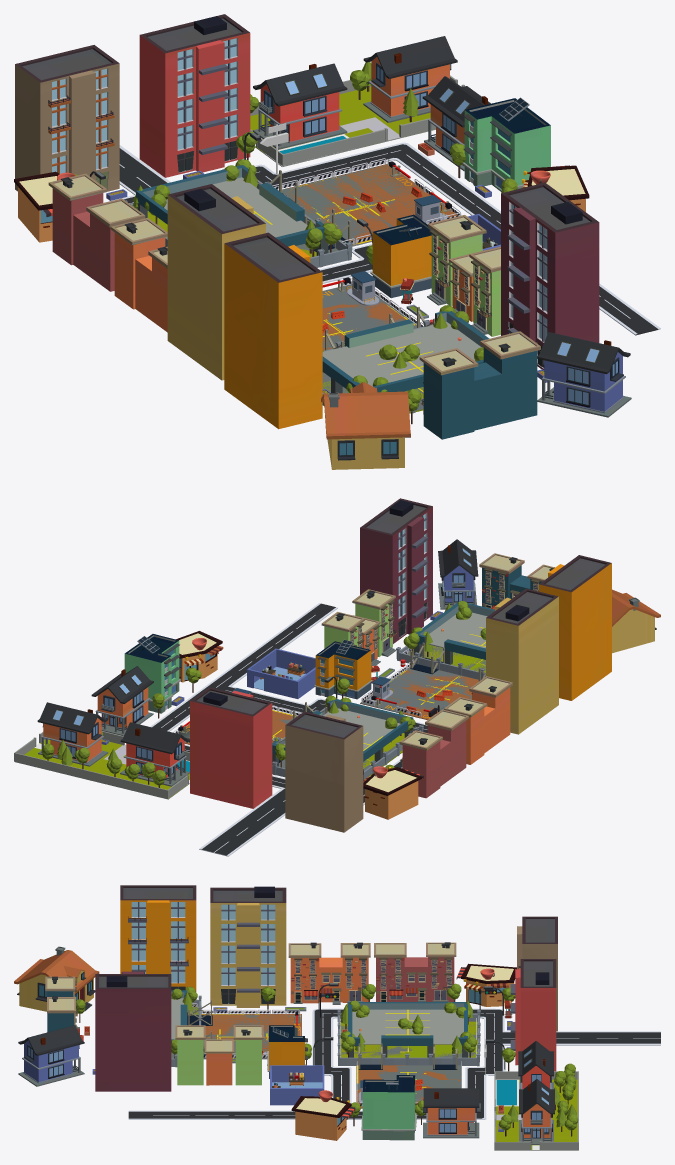
The model's file is final level 1 parking lot.fbx.
3 renders of one model, top to bottom at view 1: azimuth 30°, elevation 25°; view 2: azimuth 150°, elevation 25°; view 3: azimuth 270°, elevation 25°, orthographic. The views are drawn at different scales.
Visible parts, largest first — view 1: Big building, Big building.002, Big building.004, Big building.003, Big building.001, BUILDING2.003, Road.001, upgrade parking floor 2, HOUSE 2, BUILDING 2.001, BUILDIMG1, HOUSE 1.005 (+17 smaller); view 2: Big building.002, Big building.003, Big building.001, Big building.004, Big building, Road.001, BUILDIMG1, Plane, BUILDING2, HOUSE 1.001, HOUSE 1, HOUSE 1.002 (+17 smaller); view 3: Big building.004, Big building.001, Road.001, Big building, upgrade parking floor 1, BUILDING2, BUILDIMG1, Big building.002, BUILDING 2.001, Plane, HOUSE 1.005, HOUSE 1.002 (+21 smaller).
Boxes of the visible parts, x1=… form: Big building: x1=224, y1=232, x2=322, y2=429; Big building.002: x1=139, y1=14, x2=250, y2=177; Big building.004: x1=501, y1=182, x2=599, y2=369; Big building.003: x1=15, y1=45, x2=119, y2=191; Big building.001: x1=167, y1=184, x2=265, y2=380; BUILDING2.003: x1=419, y1=331, x2=540, y2=439; Road.001: x1=103, y1=142, x2=660, y2=335; upgrade parking floor 2: x1=322, y1=311, x2=489, y2=393; HOUSE 2: x1=321, y1=382, x2=410, y2=469; BUILDING 2.001: x1=462, y1=97, x2=550, y2=191; BUILDIMG1: x1=48, y1=173, x2=145, y2=291; HOUSE 1.005: x1=537, y1=332, x2=631, y2=417; Big building.002: x1=190, y1=687, x2=272, y2=808; Big building.003: x1=285, y1=711, x2=363, y2=832; Big building.001: x1=486, y1=588, x2=558, y2=734; Big building.004: x1=360, y1=498, x2=432, y2=643; Big building: x1=539, y1=555, x2=611, y2=700; Road.001: x1=150, y1=603, x2=427, y2=856; BUILDIMG1: x1=399, y1=709, x2=468, y2=798; Plane: x1=14, y1=731, x2=189, y2=799; BUILDING2: x1=444, y1=676, x2=512, y2=764; HOUSE 1.001: x1=120, y1=722, x2=189, y2=786; HOUSE 1: x1=37, y1=702, x2=108, y2=766; HOUSE 1.002: x1=91, y1=666, x2=153, y2=735; Big building.004: x1=95, y1=971, x2=171, y2=1091; Big building.001: x1=210, y1=886, x2=286, y2=1007; Road.001: x1=128, y1=1008, x2=660, y2=1119; Big building: x1=120, y1=885, x2=196, y2=992; upgrade parking floor 1: x1=348, y1=1002, x2=467, y2=1057; BUILDING2: x1=288, y1=942, x2=370, y2=1004; BUILDIMG1: x1=374, y1=942, x2=456, y2=1001; Big building.002: x1=510, y1=959, x2=556, y2=1071; BUILDING 2.001: x1=361, y1=1075, x2=416, y2=1140; Plane: x1=494, y1=1071, x2=578, y2=1150; HOUSE 1.005: x1=18, y1=1025, x2=84, y2=1086; HOUSE 1.002: x1=423, y1=1088, x2=480, y2=1138.
Bounding box in the file's own units: 75.11 × 22.87 × 123.
